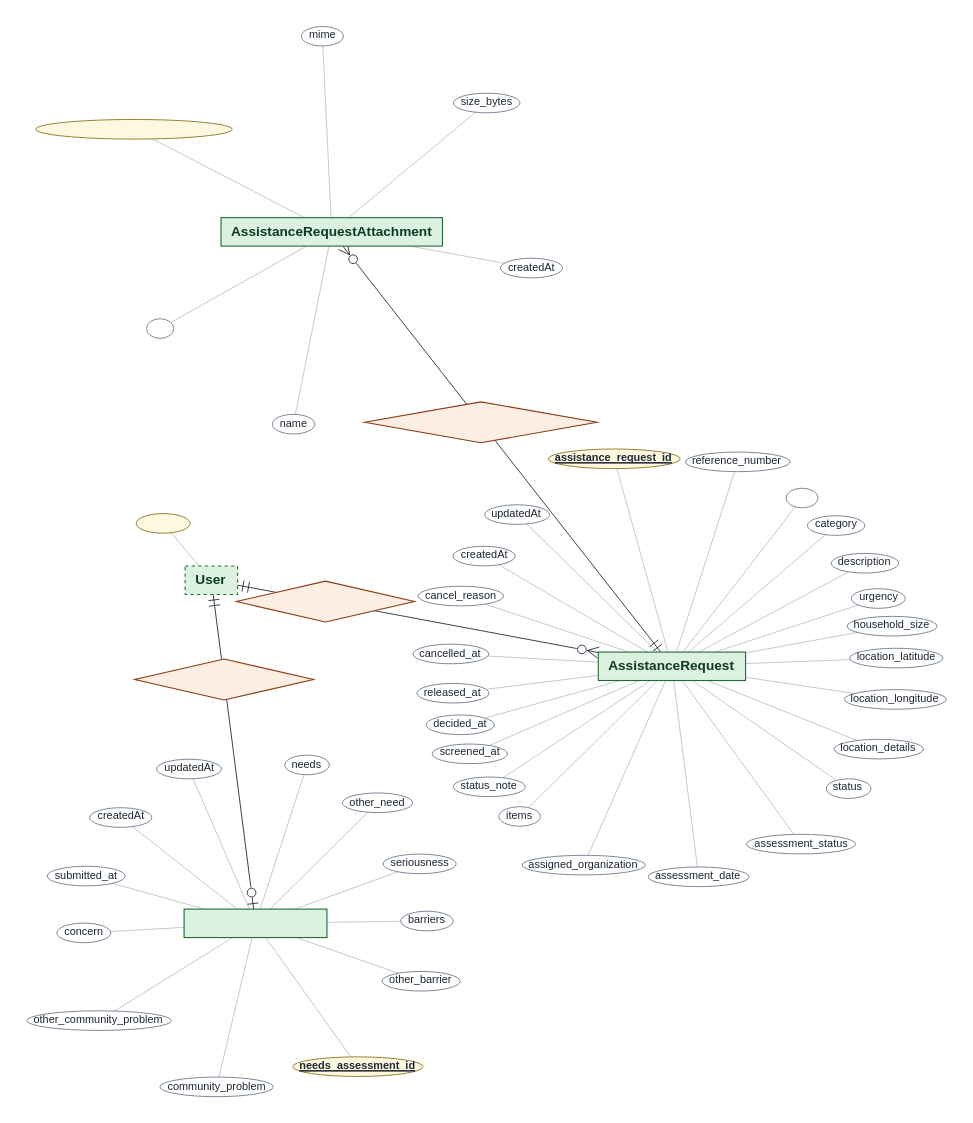
This 973x1123 diagram has some shape labels left out. Each missing label, with the centre of its shape:
"ANSWERS_ASSESSMENT" goes at point 223,679.
"ASSISTANCE_HAS_ATTACHMENT" goes at point 480,421.
"assistance_request_attachment_id" goes at point 133,128.
"NeedsAssessment" goes at point 255,922.
"REQUESTS_ASSISTANCE" goes at point 324,601.
"title" goes at point 801,497.
"url" goes at point 159,328.
"user_id" goes at point 162,522.
